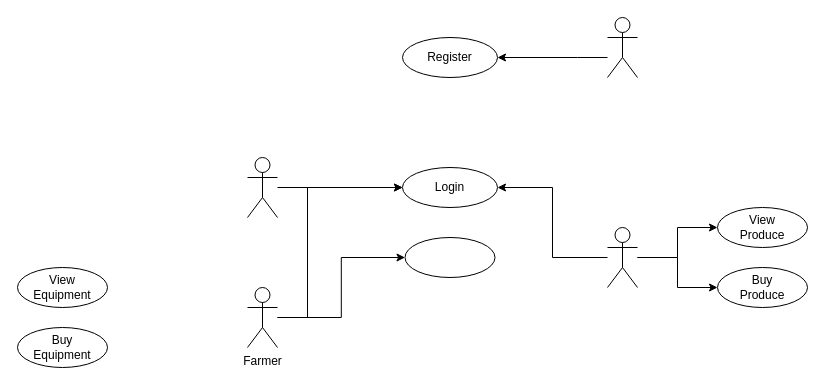
The diagram is 825 pixels wide and 386 high, and some of its shapes have lost their labels. The shapes that lost their labels are listed below. From the top down, each one's centre as x and y in pixels, then its label:
[622,47]: Unregistered User
[262,187]: Dealer
[449,257]: Sell Produce
[622,257]: Customer
